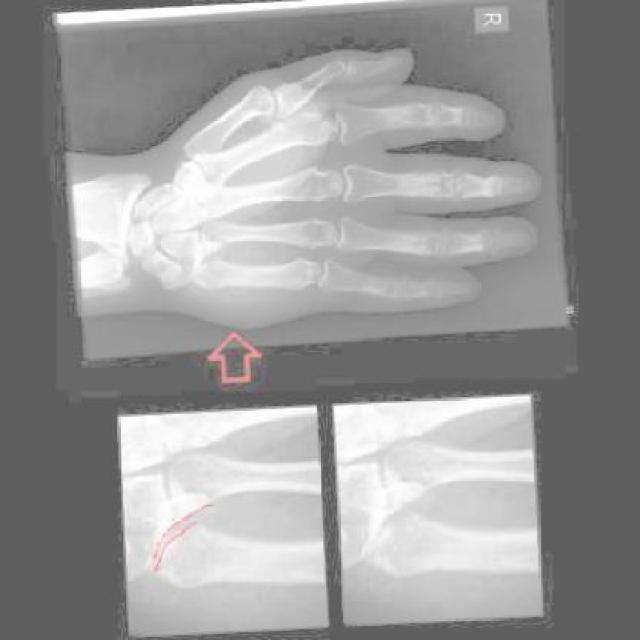Fracture: (357, 486, 443, 572), (143, 500, 228, 585), (194, 240, 237, 282)
